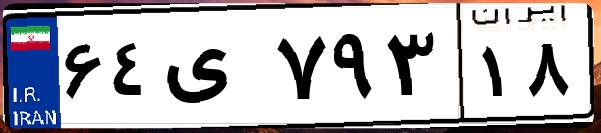1: (475, 38, 525, 113)
3: (385, 28, 445, 110)
4: (110, 28, 158, 98)
6: (57, 26, 110, 100)
7: (270, 28, 330, 110)
8: (525, 38, 570, 115)
9: (330, 28, 385, 110)
ی: (158, 20, 270, 120)
